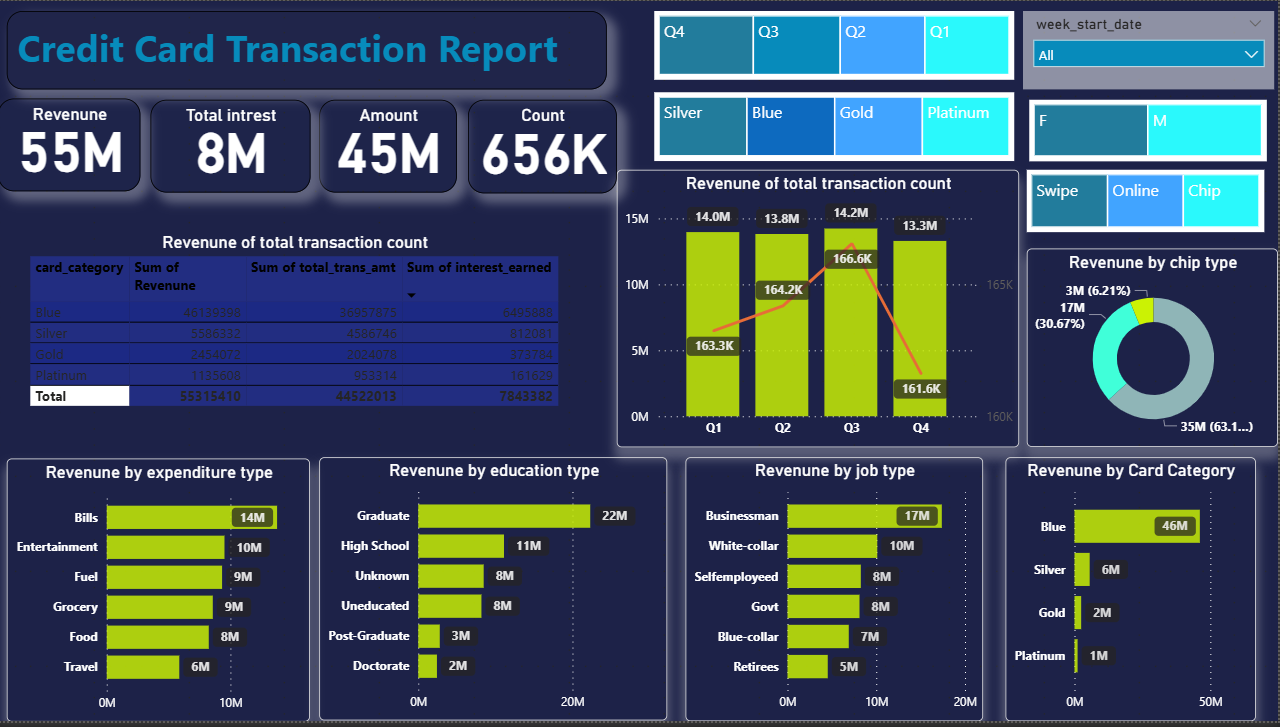

Layout of this report page (visuals, bound fields, positions):
{"tool":"powerbi","page":{"name":"Credit Card Transaction","canvas":[1280,720],"ordinal":1},"visuals":[{"type":"textbox","box":[8.3,10,600,78.3],"z":0},{"type":"lineClusteredColumnComboChart","title":"Revenune of total transaction count","fields":{"Category":["public cc_detail.qtr"],"Y":["Sum(public cc_detail.Revenune)"],"Y2":["Sum(public cc_detail.total_trans_ct)"]},"box":[618.8,168.8,402.5,277.5],"z":1000},{"type":"barChart","title":" Revenune by expenditure  type","fields":{"Y":["Sum(public cc_detail.Revenune)"],"Category":["public cc_detail.exp_type"]},"box":[8.4,456.9,303.5,263],"z":2000},{"type":"barChart","title":" Revenune by education  type","fields":{"Category":["public cust_detail.education_level"],"Y":["Sum(public cc_detail.Revenune)"]},"box":[321.7,456.7,348.3,263.3],"z":3000},{"type":"barChart","title":" Revenune by job  type","fields":{"Y":["Sum(public cc_detail.Revenune)"],"Category":["public cust_detail.customer_job"]},"box":[687.5,456.2,297.5,263.8],"z":4000},{"type":"barChart","title":" Revenune by Card  Category","fields":{"Y":["Sum(public cc_detail.Revenune)"],"Category":["public cc_detail.card_category"]},"box":[1007.5,456.2,250,263.8],"z":5000},{"type":"donutChart","title":" Revenune by chip type","fields":{"Category":["public cc_detail.use_chip"],"Y":["Sum(public cc_detail.Revenune)"]},"box":[1028.8,247.5,251.2,198.8],"z":6000},{"type":"pivotTable","title":"Revenune of total transaction count","fields":{"Rows":["public cc_detail.card_category"],"Values":["Sum(public cc_detail.Revenune)","Sum(public cc_detail.total_trans_amt)","Sum(public cc_detail.interest_earned)"]},"box":[27,231,539.5,204],"z":7000},{"type":"card","title":" Revenune ","fields":{"Values":["Sum(public cc_detail.Revenune)"]},"box":[0,97.5,142.5,92.5],"z":8000},{"type":"card","title":" Amount","fields":{"Values":["Sum(public cc_detail.total_trans_amt)"]},"box":[321.2,98.8,137.5,92.5],"z":9000},{"type":"card","title":"Total intrest ","fields":{"Values":["Sum(public cc_detail.interest_earned)"]},"box":[152.5,98.8,160,92.5],"z":10000},{"type":"card","title":"Count","fields":{"Values":["Sum(public cc_detail.total_trans_ct)"]},"box":[470,98.8,148.8,93.8],"z":11000},{"type":"slicer","fields":{"Values":["public cc_detail.week_start_date"]},"box":[1025,10,251.2,78.8],"z":12000},{"type":"treemap","fields":{"Group":["public cc_detail.qtr"],"Values":["Avg(public cc_detail.client_num)"]},"box":[656.2,10,360,68.8],"z":13000},{"type":"treemap","fields":{"Group":["public cust_detail.gender"],"Values":["Avg(public cc_detail.client_num)"]},"box":[1031.2,98.8,237.5,61.2],"z":14000},{"type":"treemap","fields":{"Group":["public cc_detail.card_category"],"Values":["Avg(public cc_detail.client_num)"]},"box":[656.2,91.2,360,68.8],"z":15000},{"type":"treemap","fields":{"Group":["public cc_detail.use_chip"],"Values":["Avg(public cc_detail.client_num)"]},"box":[1028.8,168.8,237.5,62.5],"z":16000}]}

Visuals, with their boxes in screenshot pixels (x1, y1, x2, y2), scaled from the page's 1280x720 canvas onto the 1280x727 screenshot:
textbox: (x1=8, y1=10, x2=608, y2=89)
"Revenune of total transaction count" lineClusteredColumnComboChart: (x1=619, y1=170, x2=1021, y2=451)
" Revenune by expenditure  type" barChart: (x1=8, y1=461, x2=312, y2=726)
" Revenune by education  type" barChart: (x1=322, y1=461, x2=670, y2=726)
" Revenune by job  type" barChart: (x1=688, y1=461, x2=985, y2=726)
" Revenune by Card  Category" barChart: (x1=1008, y1=461, x2=1258, y2=726)
" Revenune by chip type" donutChart: (x1=1029, y1=250, x2=1279, y2=451)
"Revenune of total transaction count" pivotTable: (x1=27, y1=233, x2=566, y2=439)
" Revenune " card: (x1=0, y1=98, x2=142, y2=192)
" Amount" card: (x1=321, y1=100, x2=459, y2=193)
"Total intrest " card: (x1=152, y1=100, x2=312, y2=193)
"Count" card: (x1=470, y1=100, x2=619, y2=194)
slicer - public cc_detail.week_start_date: (x1=1025, y1=10, x2=1276, y2=90)
treemap - public cc_detail.qtr x Avg(public cc_detail.client_num): (x1=656, y1=10, x2=1016, y2=80)
treemap - public cust_detail.gender x Avg(public cc_detail.client_num): (x1=1031, y1=100, x2=1269, y2=162)
treemap - public cc_detail.card_category x Avg(public cc_detail.client_num): (x1=656, y1=92, x2=1016, y2=162)
treemap - public cc_detail.use_chip x Avg(public cc_detail.client_num): (x1=1029, y1=170, x2=1266, y2=234)
